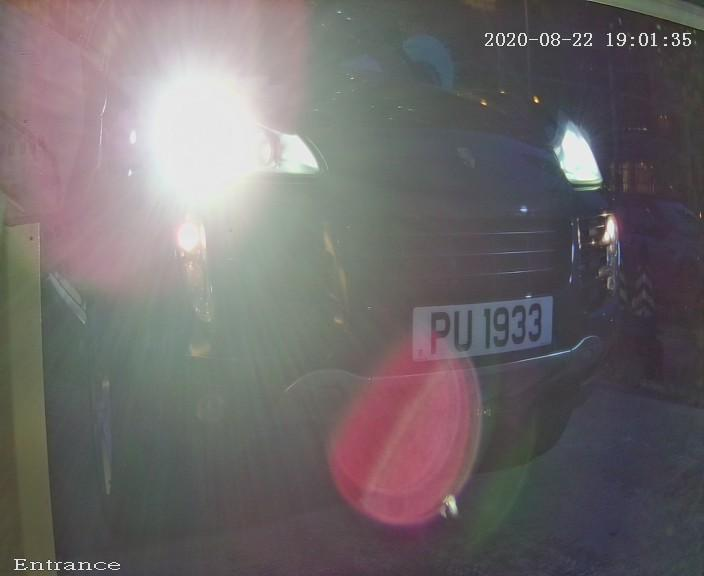Car: (10, 18, 686, 523)
License Plate: (393, 266, 566, 388)
